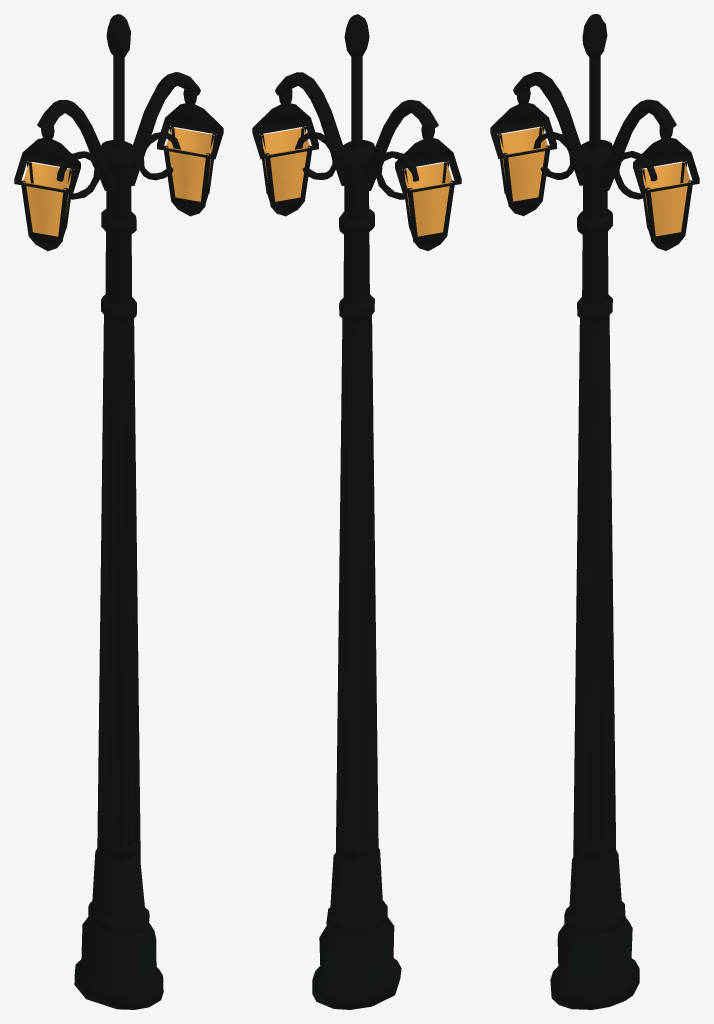
Rendered from streetlamp.glb.
3 renders of one model, left to right at view 1: azimuth 30°, elevation 25°; view 2: azimuth 150°, elevation 25°; view 3: azimuth 330°, elevation 25°, orthographic.
Visible parts, largest first — view 1: Cast stepped plinth, Cast fluting.008, Cast fluting.010, Cast fluting.009, Lantern warm glazing.001, Lantern warm glazing, Cast fluting.005, Cast fluting.007, Cast fluting.006, Swept lantern bracket.001, Swept lantern bracket, Lantern hip roof.001 (+10 smaller); view 2: Cast stepped plinth, Cast fluting.003, Cast fluting.002, Cast fluting.006, Cast fluting.004, Cast fluting.005, Lantern warm glazing.001, Lantern warm glazing, Cast fluting.007, Swept lantern bracket.001, Swept lantern bracket, Lantern hip roof.001 (+9 smaller); view 3: Cast stepped plinth, Cast fluting.010, Cast fluting.009, Cast fluting.008, Lantern warm glazing, Lantern warm glazing.001, Cast fluting, Cast fluting.011, Swept lantern bracket, Swept lantern bracket.001, Cast fluting.001, Lantern hip roof (+10 smaller).
Boxes of the visible parts, x1=… form: Cast stepped plinth: x1=74, y1=140, x2=163, y2=1009; Cast fluting.008: x1=118, y1=322, x2=123, y2=863; Cast fluting.010: x1=130, y1=319, x2=138, y2=859; Cast fluting.009: x1=125, y1=321, x2=132, y2=861; Lantern warm glazing.001: x1=166, y1=127, x2=214, y2=201; Lantern warm glazing: x1=23, y1=162, x2=71, y2=236; Cast fluting.005: x1=97, y1=315, x2=106, y2=851; Cast fluting.007: x1=110, y1=321, x2=116, y2=873; Cast fluting.006: x1=102, y1=318, x2=110, y2=856; Swept lantern bracket.001: x1=131, y1=72, x2=200, y2=185; Swept lantern bracket: x1=37, y1=100, x2=114, y2=191; Lantern hip roof.001: x1=157, y1=103, x2=223, y2=159; Cast stepped plinth: x1=312, y1=140, x2=401, y2=1009; Cast fluting.003: x1=343, y1=321, x2=350, y2=860; Cast fluting.002: x1=336, y1=319, x2=345, y2=868; Cast fluting.006: x1=366, y1=317, x2=374, y2=855; Cast fluting.004: x1=352, y1=322, x2=357, y2=862; Cast fluting.005: x1=361, y1=320, x2=366, y2=861; Lantern warm glazing.001: x1=261, y1=127, x2=309, y2=201; Lantern warm glazing: x1=404, y1=162, x2=452, y2=236; Cast fluting.007: x1=369, y1=315, x2=378, y2=865; Swept lantern bracket.001: x1=275, y1=72, x2=344, y2=185; Swept lantern bracket: x1=361, y1=99, x2=438, y2=191; Lantern hip roof.001: x1=252, y1=103, x2=318, y2=159; Cast stepped plinth: x1=550, y1=139, x2=639, y2=1009; Cast fluting.010: x1=590, y1=321, x2=595, y2=863; Cast fluting.009: x1=581, y1=321, x2=588, y2=861; Cast fluting.008: x1=575, y1=319, x2=583, y2=859; Lantern warm glazing: x1=499, y1=127, x2=547, y2=201; Lantern warm glazing.001: x1=642, y1=162, x2=690, y2=236; Cast fluting: x1=605, y1=317, x2=612, y2=854; Cast fluting.011: x1=598, y1=320, x2=603, y2=877; Swept lantern bracket: x1=513, y1=72, x2=582, y2=185; Swept lantern bracket.001: x1=599, y1=99, x2=676, y2=191; Cast fluting.001: x1=607, y1=315, x2=616, y2=850; Lantern hip roof: x1=490, y1=103, x2=556, y2=159.
Bounding box in the file's own units: 0.9 × 4 × 0.398.
1 material, 1 textured.
